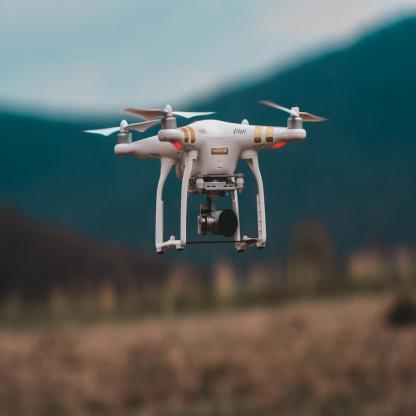drone: (85, 97, 329, 186)
